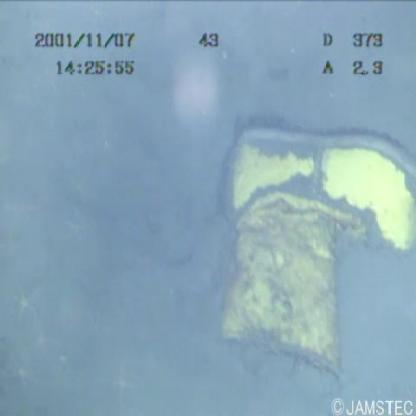Rác: (215, 99, 416, 400)
